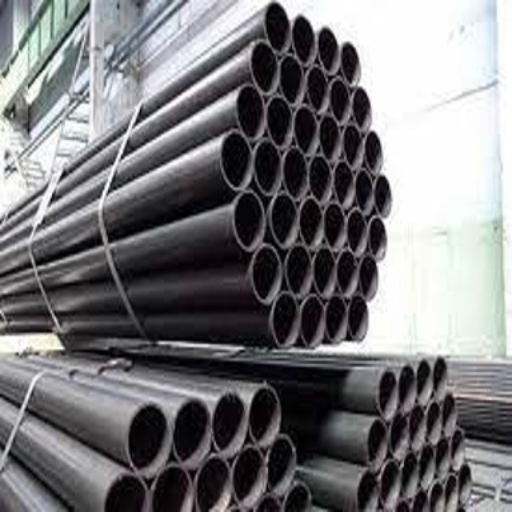Circle: (128, 407, 170, 470), (175, 403, 209, 462), (197, 459, 231, 511), (152, 467, 191, 511), (215, 395, 246, 450), (233, 448, 264, 503), (221, 133, 251, 186), (248, 389, 276, 442), (235, 193, 262, 245), (107, 477, 147, 511), (268, 439, 294, 491), (236, 85, 263, 135), (253, 249, 278, 296), (255, 143, 279, 191), (273, 295, 296, 342), (284, 149, 307, 195), (272, 196, 296, 240), (268, 4, 290, 50), (268, 99, 291, 143), (287, 248, 310, 291), (281, 57, 303, 100), (301, 300, 323, 343), (295, 108, 316, 151), (254, 46, 275, 88), (300, 201, 320, 243), (311, 157, 330, 199), (308, 68, 327, 109), (316, 251, 335, 292), (324, 206, 344, 244), (367, 421, 384, 464), (348, 298, 367, 336), (295, 20, 313, 60), (332, 81, 350, 120), (321, 119, 339, 156), (344, 127, 362, 164), (338, 253, 356, 290), (360, 257, 377, 296), (380, 374, 396, 414), (381, 464, 399, 499), (320, 33, 337, 70), (353, 90, 370, 127), (357, 475, 376, 508), (336, 164, 352, 203), (391, 416, 407, 455), (348, 213, 364, 250), (328, 299, 344, 336), (400, 368, 415, 404), (285, 488, 308, 511), (341, 47, 356, 82), (376, 179, 391, 213), (409, 408, 424, 442), (357, 173, 371, 209), (367, 133, 380, 168), (371, 220, 384, 255), (417, 364, 430, 396), (403, 456, 416, 487), (437, 439, 448, 474), (451, 432, 463, 464), (427, 404, 439, 435), (420, 448, 432, 479), (435, 360, 446, 392), (459, 467, 470, 497), (256, 497, 279, 511), (445, 479, 456, 507), (431, 485, 442, 510), (443, 397, 453, 424), (415, 491, 428, 510), (397, 503, 408, 511)
